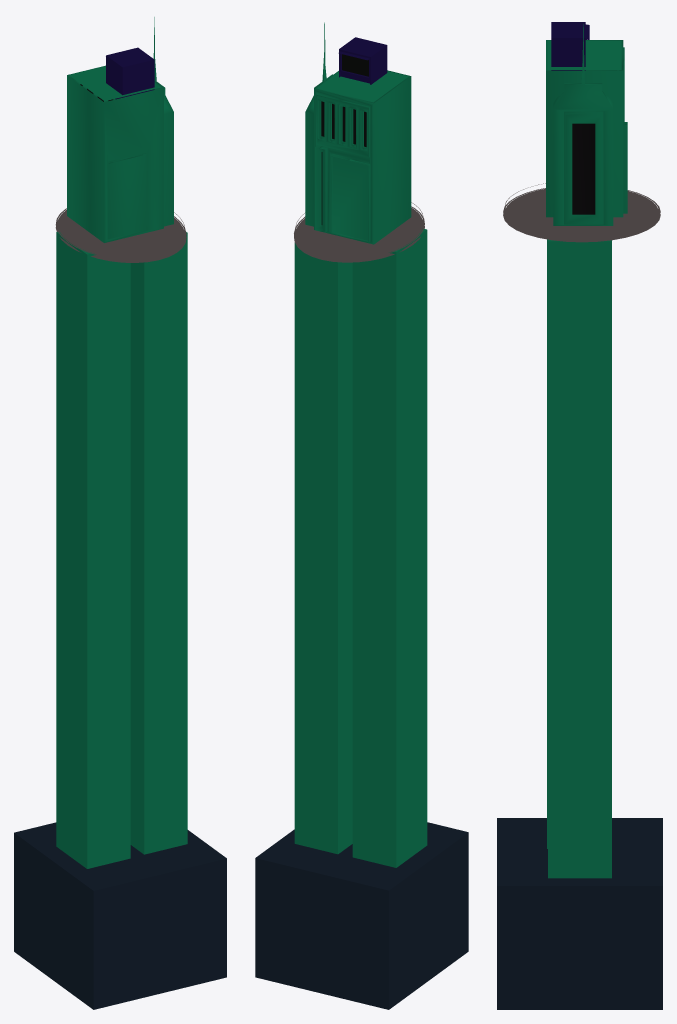
The model's file is Avengertower.glb.
The picture shows the model from 3 angles, left to right: view 1: azimuth 30°, elevation 25°; view 2: azimuth 150°, elevation 25°; view 3: azimuth 270°, elevation 25°; orthographic projection. The views are drawn at different scales.
Visible parts, largest first — view 1: A tower main; view 2: A tower main; view 3: A tower main.
Boxes of the visible parts, left/top/right/bottom form: A tower main: left=14, top=17, right=226, bottom=1009; A tower main: left=255, top=22, right=468, bottom=1009; A tower main: left=497, top=22, right=662, bottom=1009.
Size of the model in its own units: 171 by 1154 by 177.
1 material, 1 textured.
